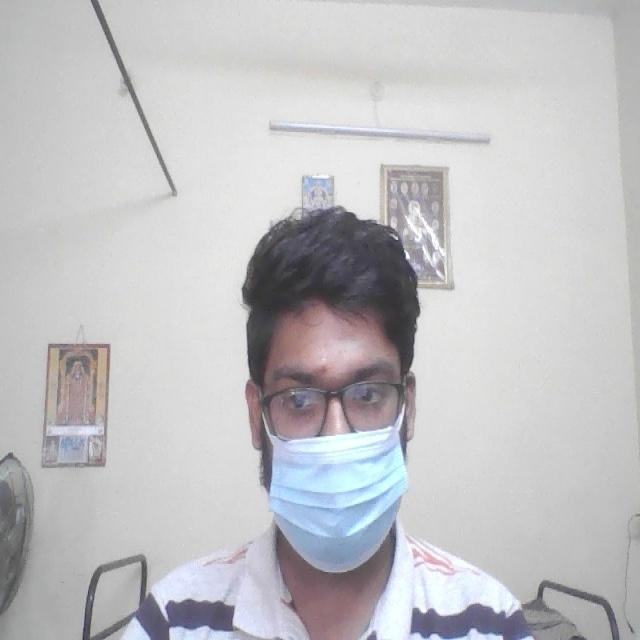Focused: (257, 353, 402, 532)
